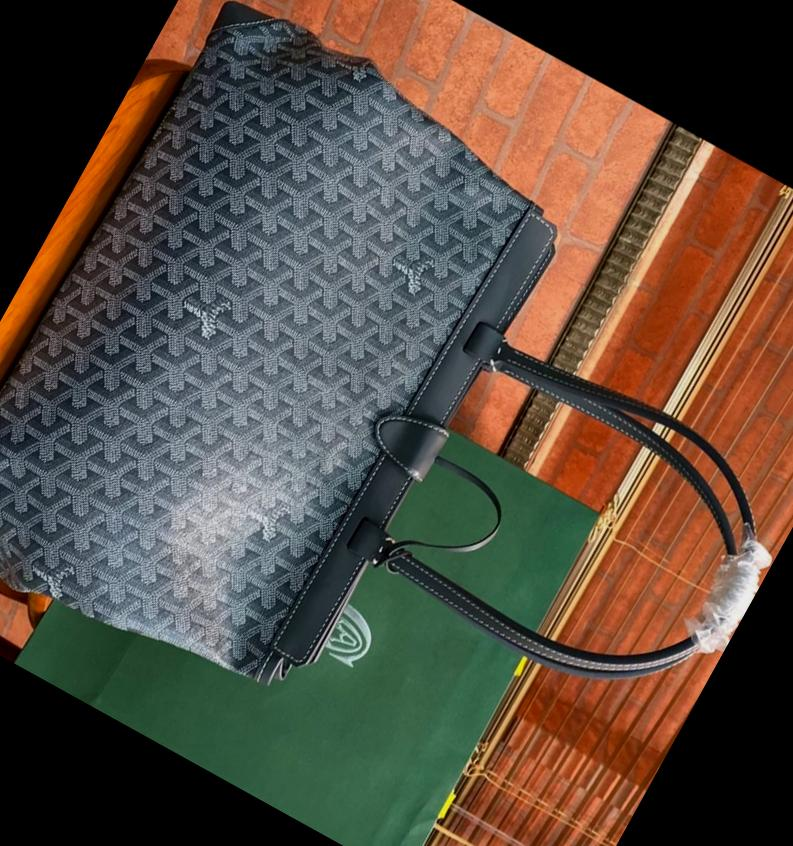GOYARD: (0, 0, 556, 720)
